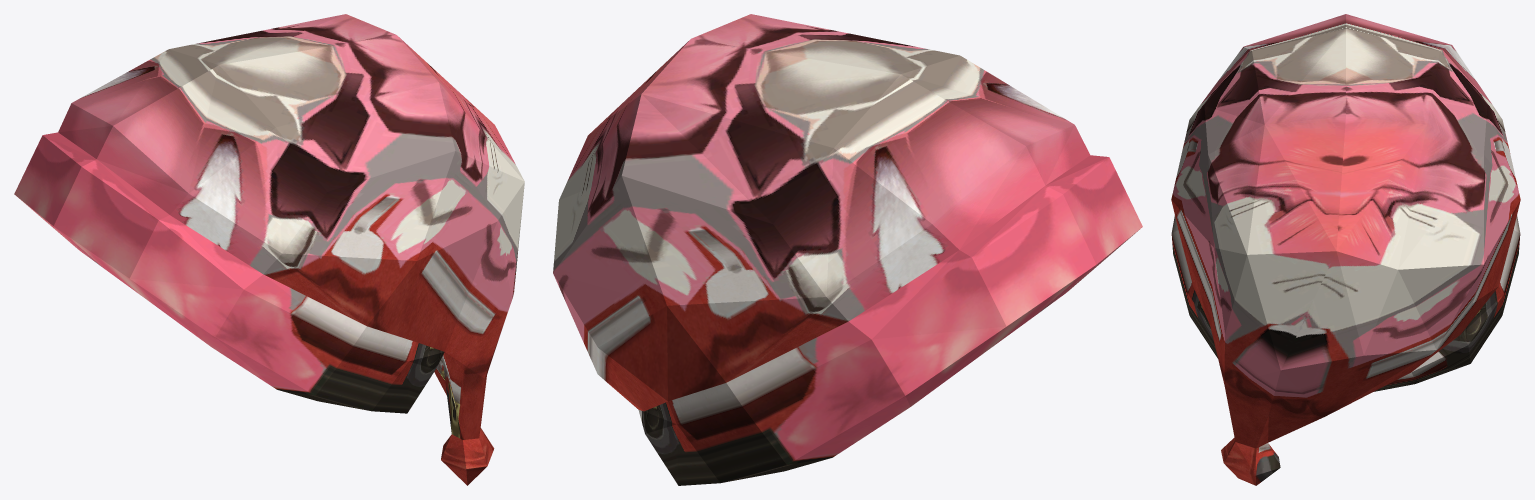
The model's file is Rabbit_santaHat.obj.
3 renders of one model, left to right at view 1: azimuth 30°, elevation 25°; view 2: azimuth 150°, elevation 25°; view 3: azimuth 270°, elevation 25°, orthographic. The views are drawn at different scales.
Visible parts, largest first — view 1: Rabbit_santaHat_tri; view 2: Rabbit_santaHat_tri; view 3: Rabbit_santaHat_tri.
Part boxes in pixels (box(x1,y1,x2,y2)): Rabbit_santaHat_tri: box(14, 14, 524, 485); Rabbit_santaHat_tri: box(553, 14, 1142, 485); Rabbit_santaHat_tri: box(1171, 14, 1520, 485).
Size of the model in its own units: 0.3691 by 0.3439 by 0.2922.
1 material, 1 textured.
